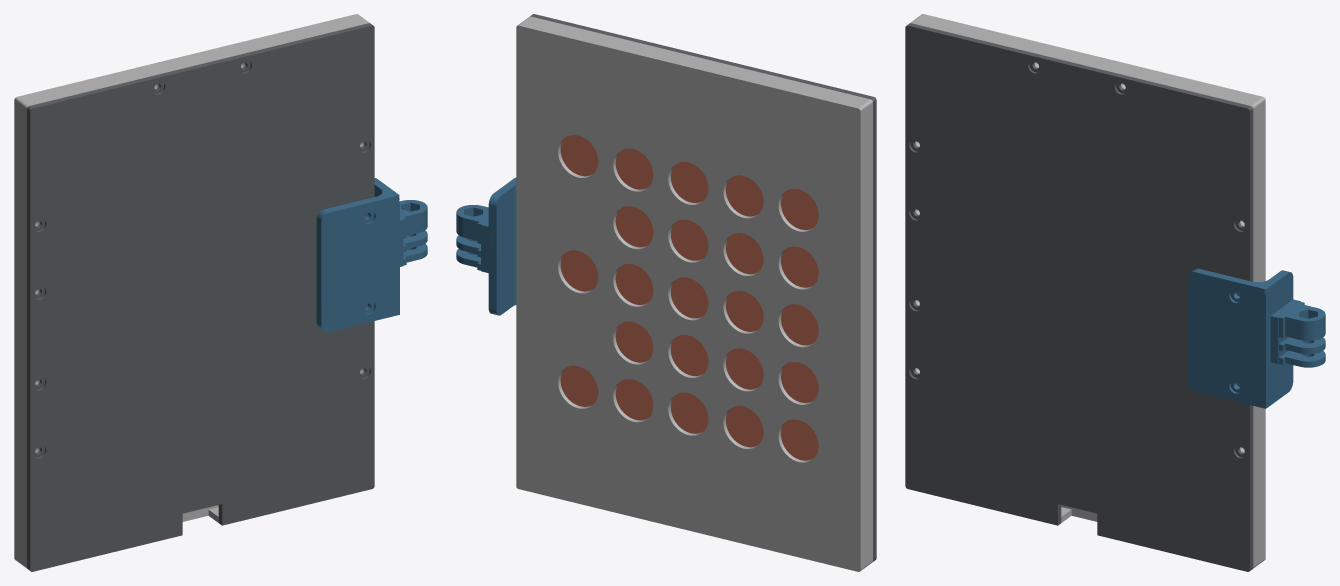
The model's file is calibration-target.glb.
The picture shows the model from 3 angles, left to right: view 1: azimuth 30°, elevation 25°; view 2: azimuth 150°, elevation 25°; view 3: azimuth 330°, elevation 25°; orthographic projection.
Visible parts, largest first — view 1: Back Plate, L Bracket, Front Plate + Frame; view 2: Front Plate + Frame, Heater, L Bracket, Back Plate; view 3: Back Plate, L Bracket, Front Plate + Frame.
Boxes of the visible parts, x1,y1,x2,y2 form: Back Plate: (27,23,374,571); L Bracket: (316,178,427,332); Front Plate + Frame: (14,14,369,568); Front Plate + Frame: (516,16,872,571); Heater: (560,135,818,460); L Bracket: (456,177,516,315); Back Plate: (530,14,876,561); Back Plate: (905,23,1253,571); L Bracket: (1187,268,1325,408); Front Plate + Frame: (910,14,1265,568).
Bounding box in the file's own units: 206 × 225 × 24.
